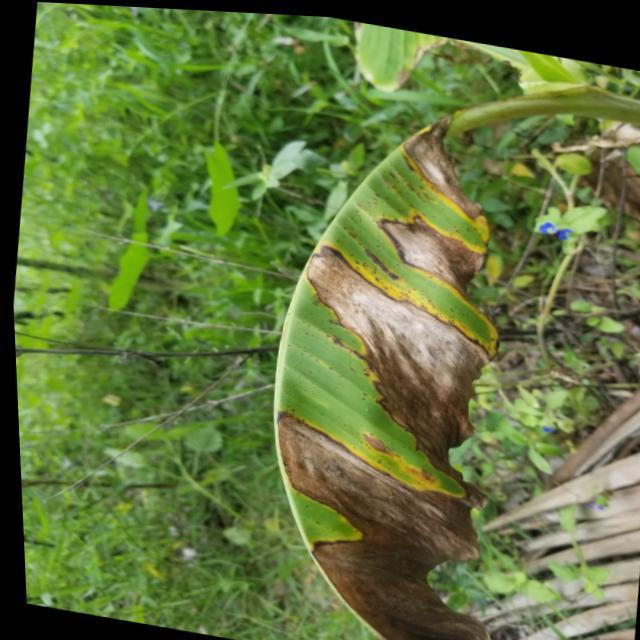Early_rust: (248, 114, 502, 582)
